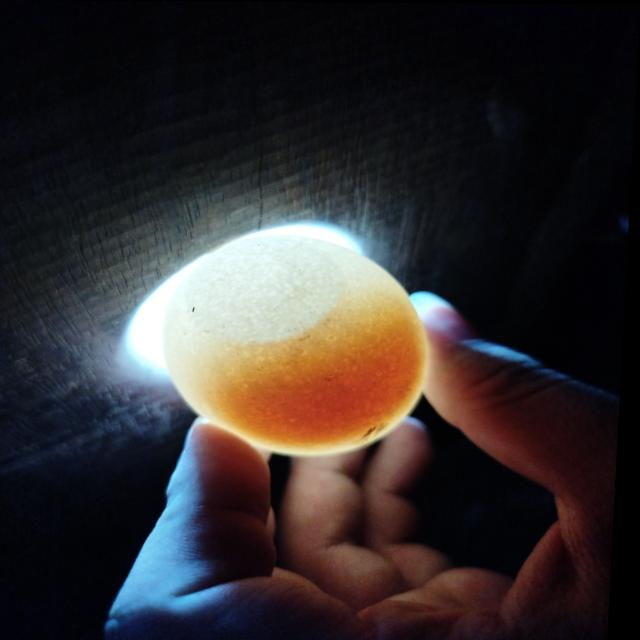Camara de Ar: (188, 235, 344, 340)
